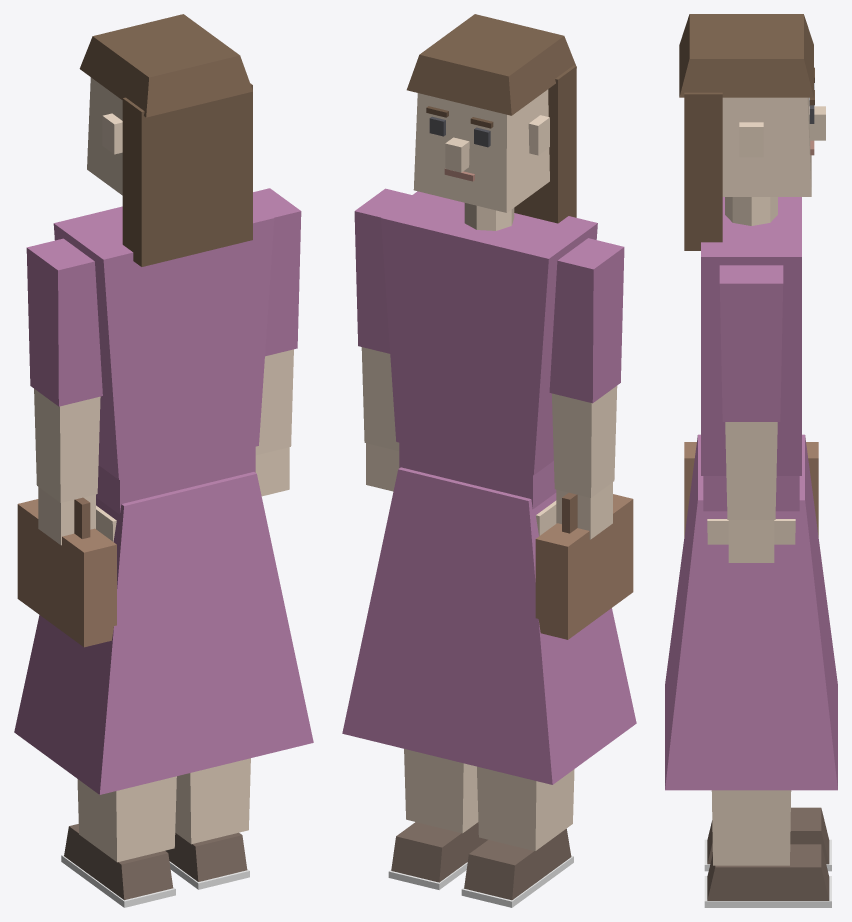
The model's file is woman_dress.glb.
3 views of the same model, side by side, from view 1: azimuth 30°, elevation 25°; view 2: azimuth 150°, elevation 25°; view 3: azimuth 270°, elevation 25° (orthographic). The views are drawn at different scales.
Visible parts, largest first — view 1: Torso, HeadMesh, ArmMesh, LegMesh, Bag, ArmMesh2, LegMesh2; view 2: Torso, HeadMesh, ArmMesh, LegMesh, Bag, LegMesh2, ArmMesh2; view 3: Torso, HeadMesh, ArmMesh2, LegMesh2, LegMesh, Bag.
Part boxes in pixels (box(x1,y1,x2,y2)): Torso: box(14, 203, 313, 794); HeadMesh: box(79, 14, 252, 266); ArmMesh: box(26, 238, 102, 545); LegMesh: box(61, 505, 176, 907); Bag: box(17, 497, 116, 647); ArmMesh2: box(253, 188, 301, 496); LegMesh2: box(165, 758, 250, 889); Torso: box(342, 191, 636, 784); HeadMesh: box(406, 14, 576, 223); ArmMesh: box(549, 238, 624, 539); LegMesh: box(461, 500, 574, 907); Bag: box(535, 492, 633, 639); LegMesh2: box(388, 749, 487, 889); ArmMesh2: box(354, 188, 411, 491); Torso: box(665, 197, 837, 790); HeadMesh: box(679, 14, 825, 250); ArmMesh2: box(719, 265, 783, 562); LegMesh2: box(704, 519, 831, 907); LegMesh: box(704, 807, 831, 871); Bag: box(684, 442, 818, 537).
Size of the model in its own units: 0.591 by 1.93 by 0.36.
